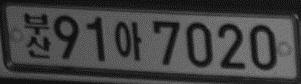0: (247, 23, 277, 70), (185, 21, 214, 69)
1: (84, 16, 111, 61)
2: (217, 23, 245, 69)
7: (152, 20, 180, 65)
9: (52, 14, 79, 59)
부산_V: (23, 12, 51, 59)
아: (114, 20, 142, 61)
